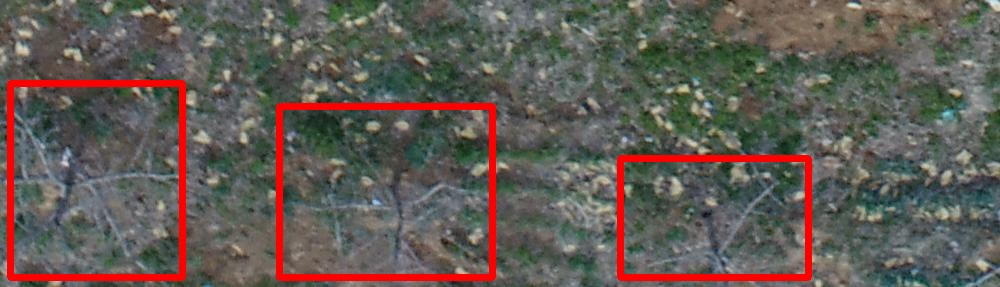apple: (279, 106, 492, 277), (10, 83, 182, 277), (620, 158, 808, 277)
